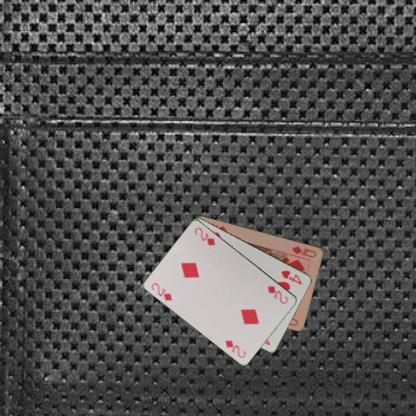2d: (265, 283, 290, 305), (149, 280, 174, 302)
4h: (278, 268, 303, 286)
Qd: (289, 243, 318, 259)
